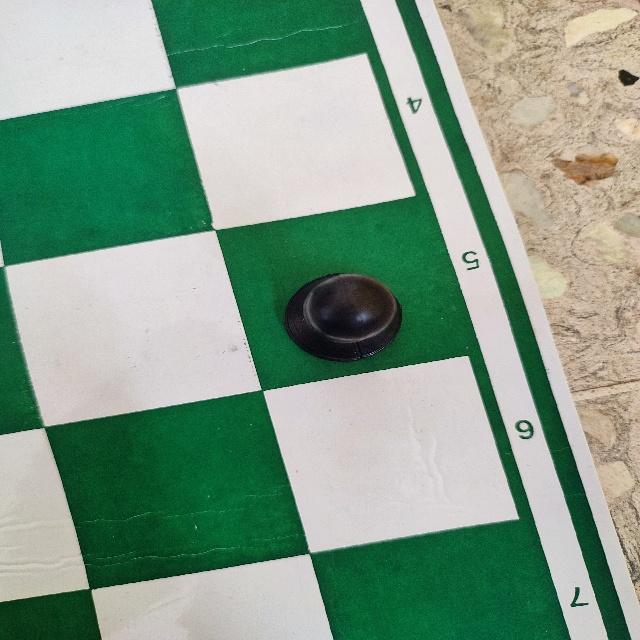Pawn: (282, 270, 403, 364)
